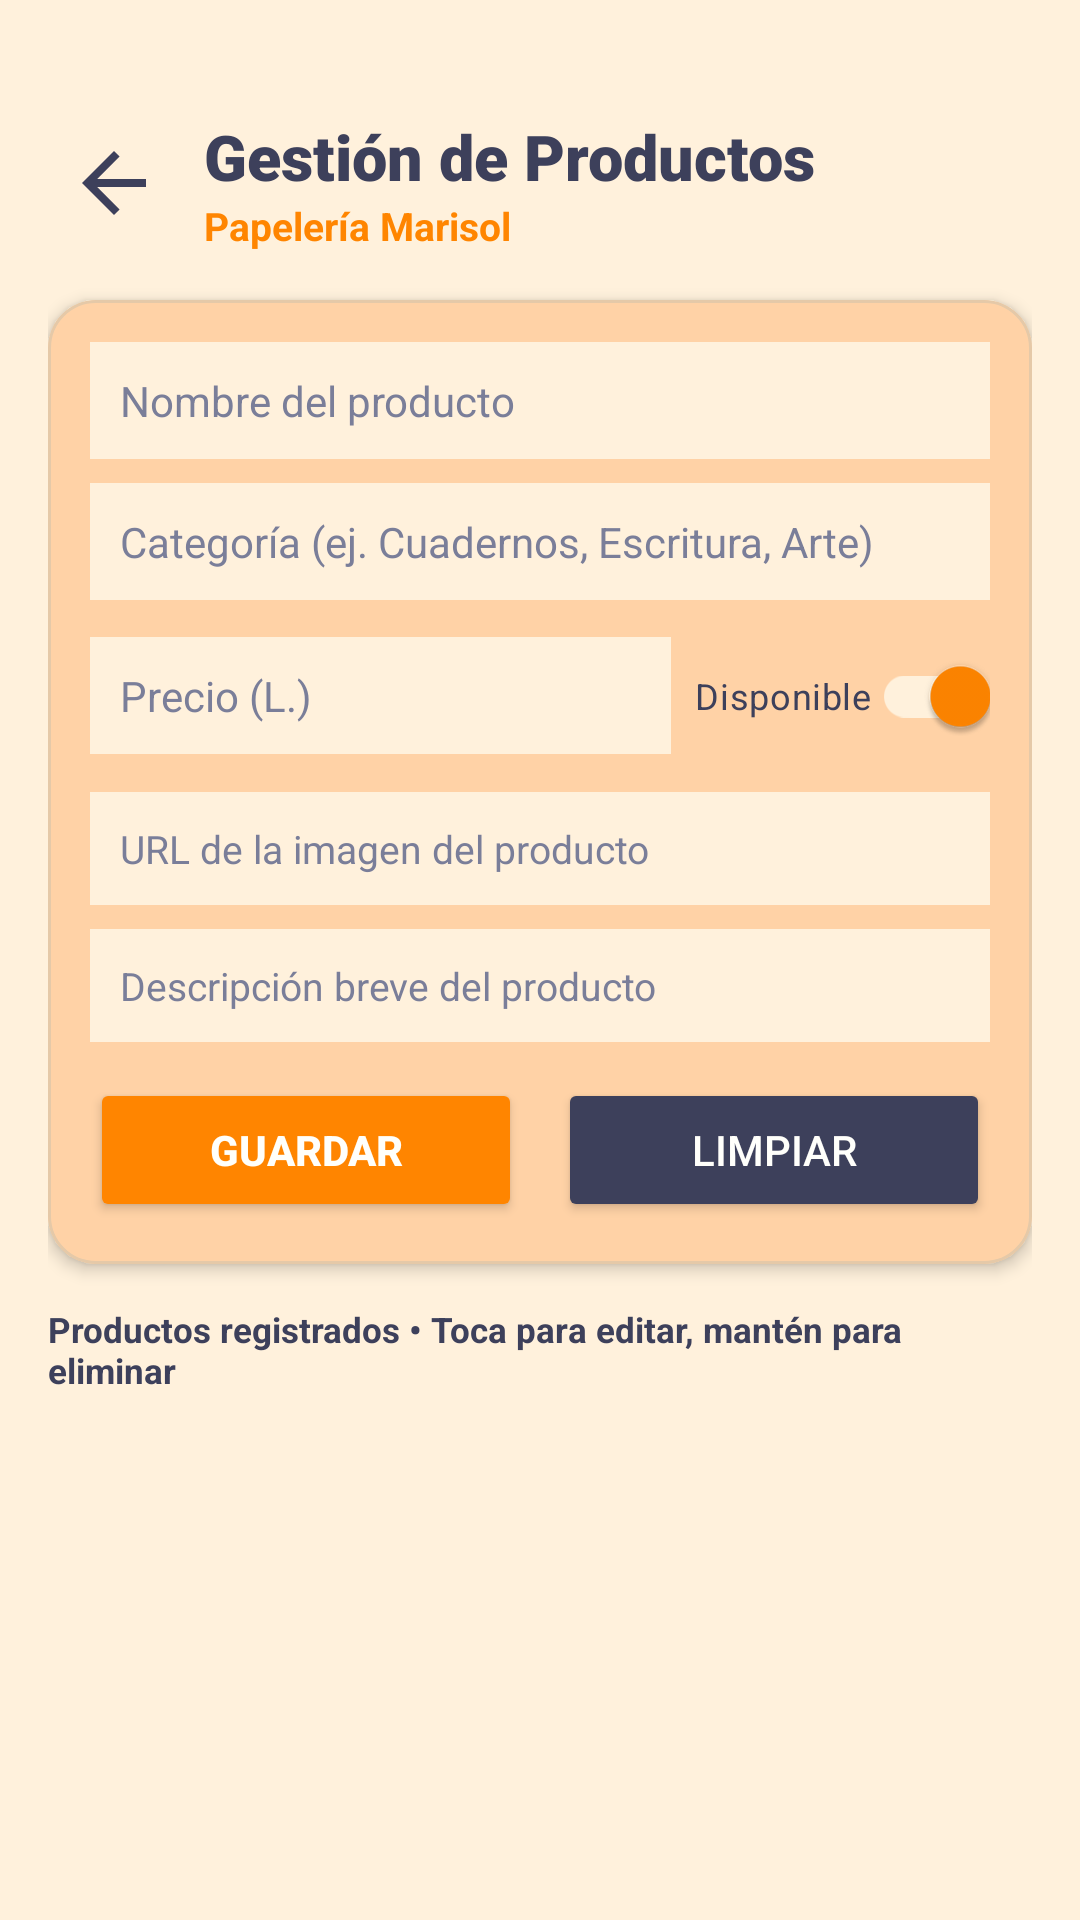

Locate icon controls on the screen. Image size 1080px×1920px, boxes as (x1, y1, x2, y2).
Volver: (82, 151, 146, 215)
